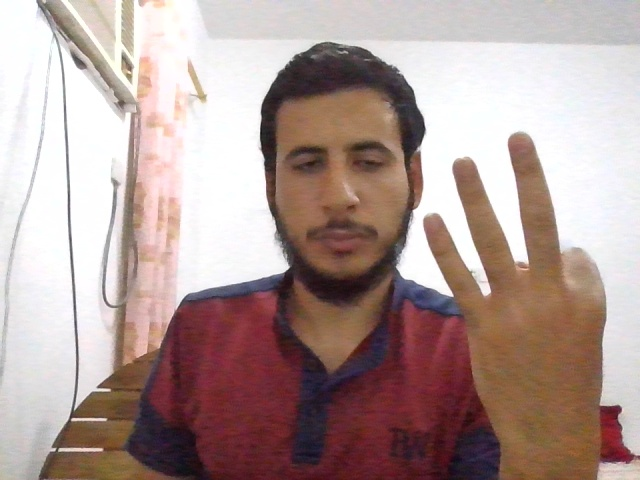Three: (424, 131, 608, 458)
